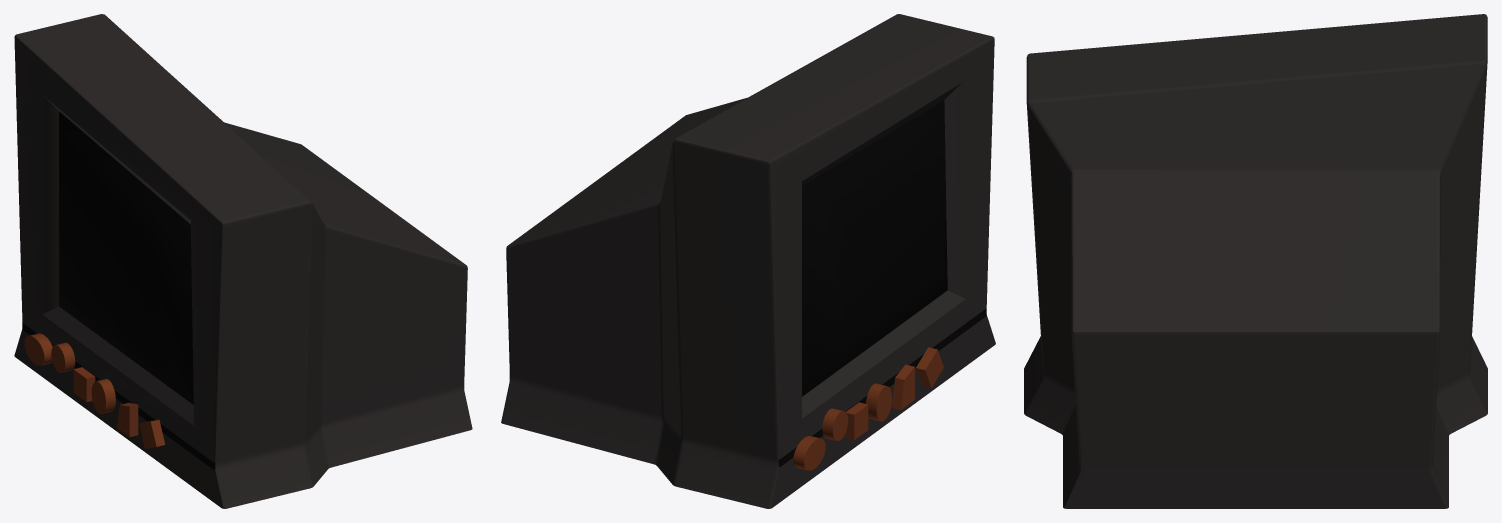
Rendered from tv_nieuwestijl.fbx.
3 renders of one model, left to right at view 1: azimuth 30°, elevation 25°; view 2: azimuth 150°, elevation 25°; view 3: azimuth 270°, elevation 25°, orthographic. The views are drawn at different scales.
Parts seen in each view (by area): view 1: pCube146; view 2: pCube146; view 3: pCube146.
Part boxes in pixels (left/top/right/bottom): pCube146: left=14, top=14, right=472, bottom=508; pCube146: left=501, top=14, right=995, bottom=508; pCube146: left=1024, top=14, right=1487, bottom=508.
Size of the model in its own units: 1.08 by 1.2 by 1.41.
